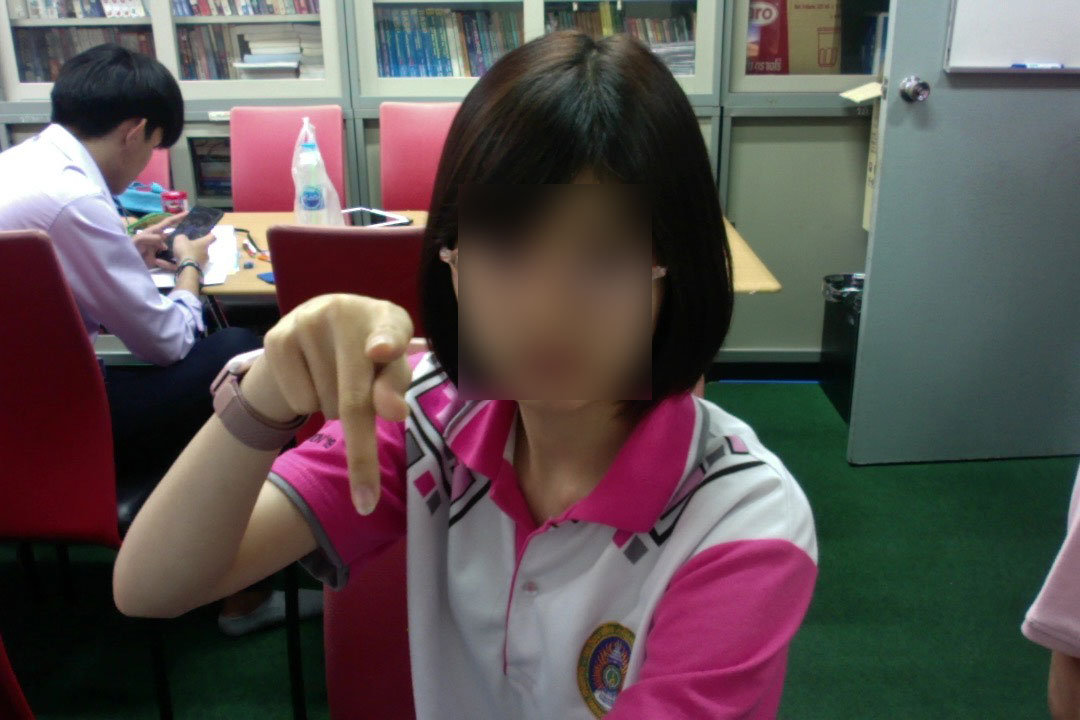por: (255, 285, 422, 519)
